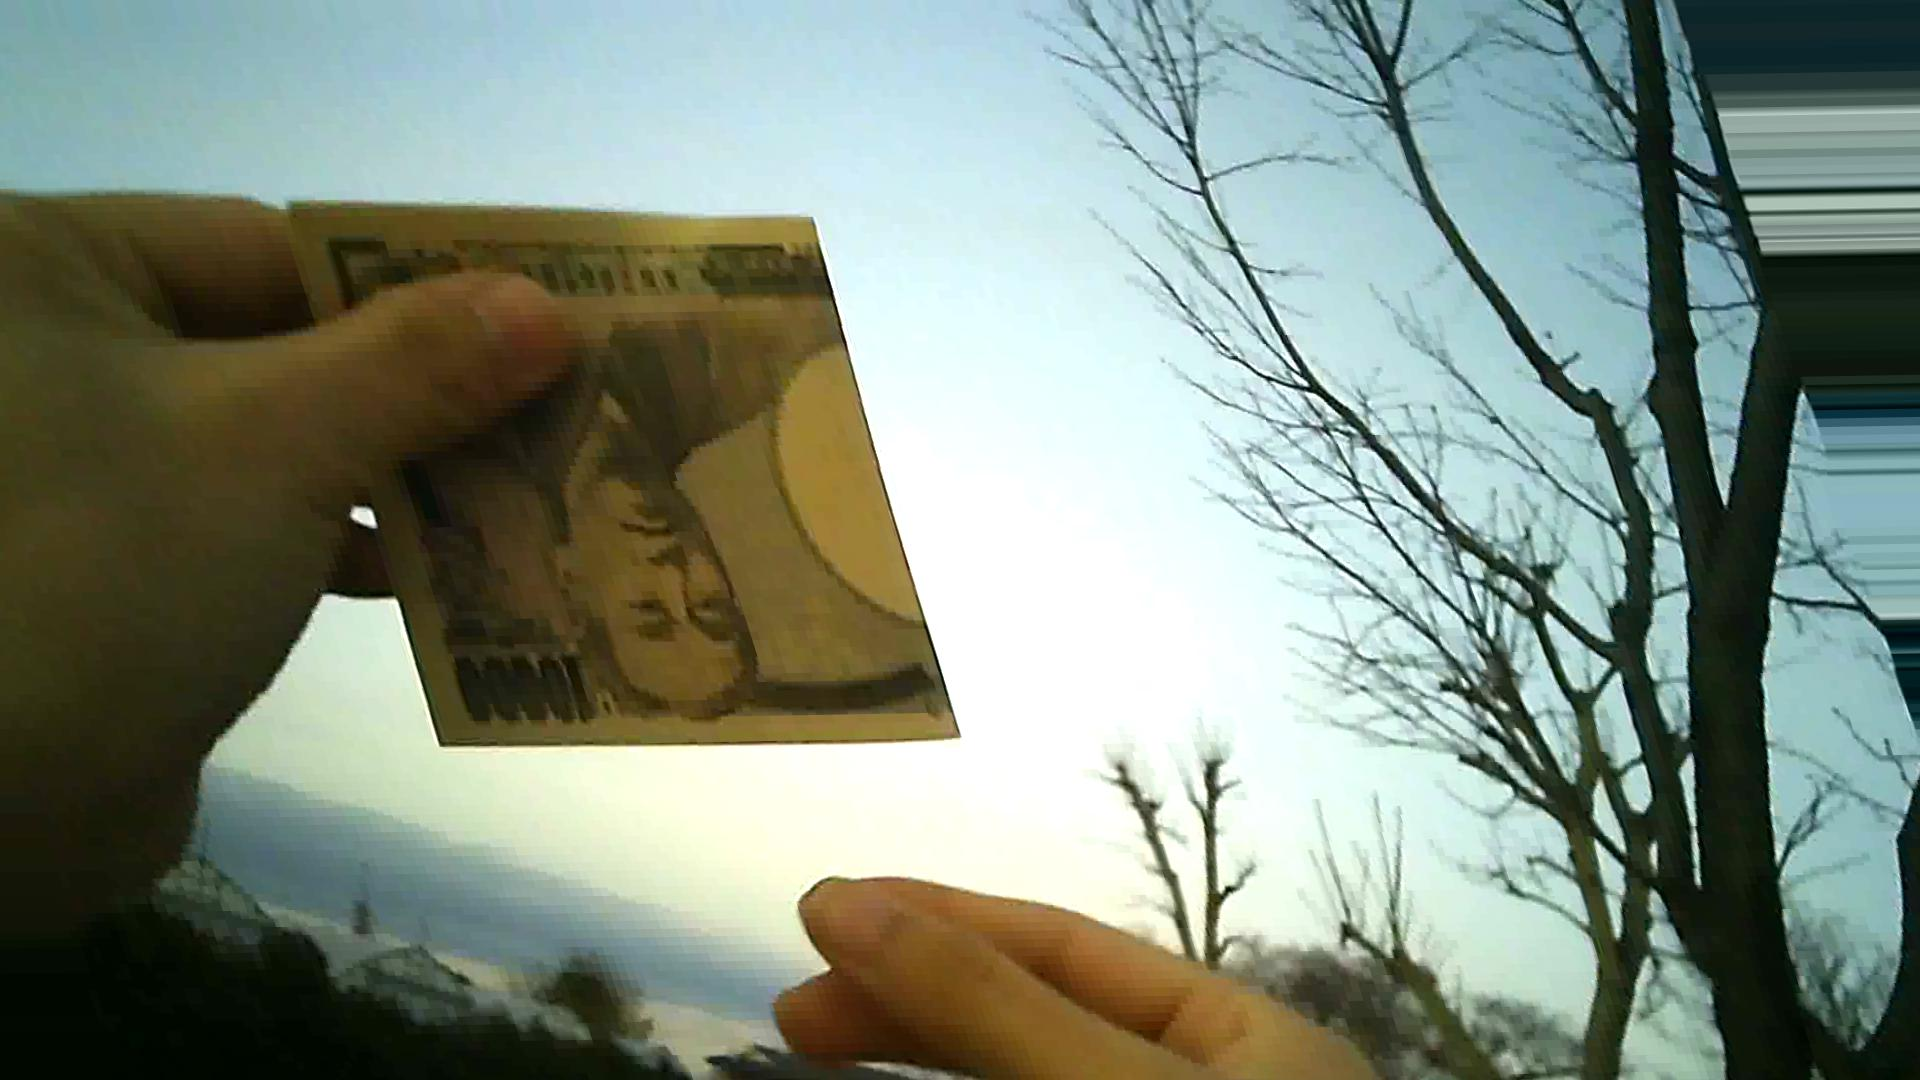10,000 Yen: (270, 133, 989, 771)
